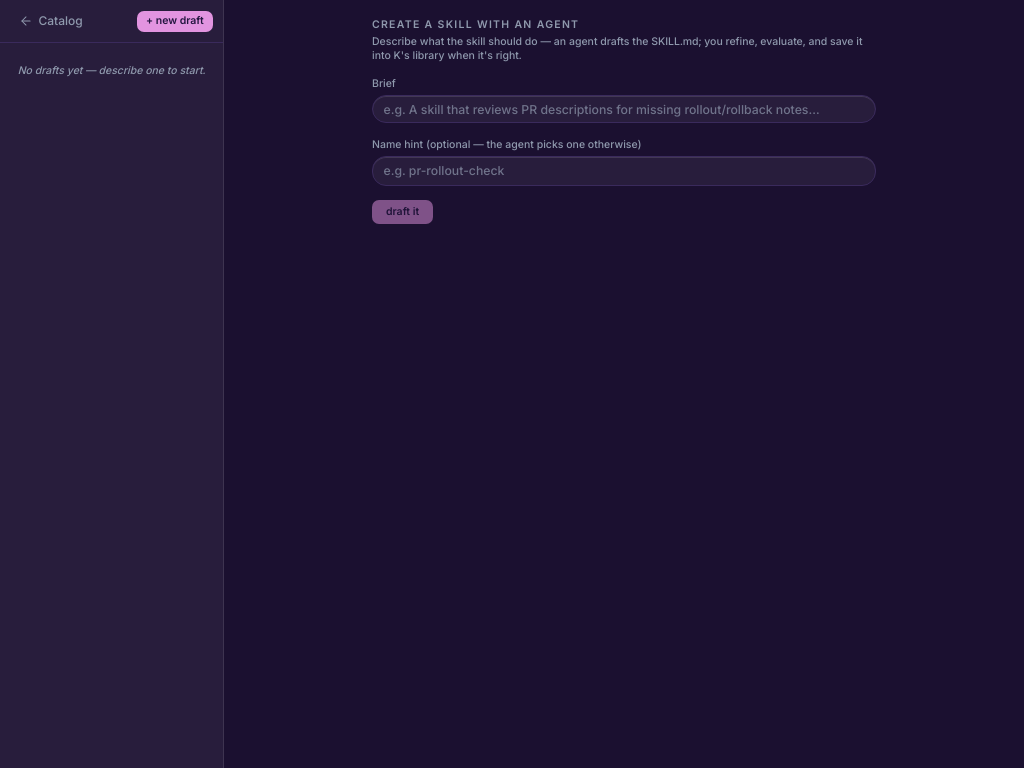
Test: BriefForm (no draft selected) › surfaces a create failure inline
This screenshot has width=1024, height=768.
Replace the text in the text box with test id "brief-input" with "x": x=624, y=108 [372,94,876,122]
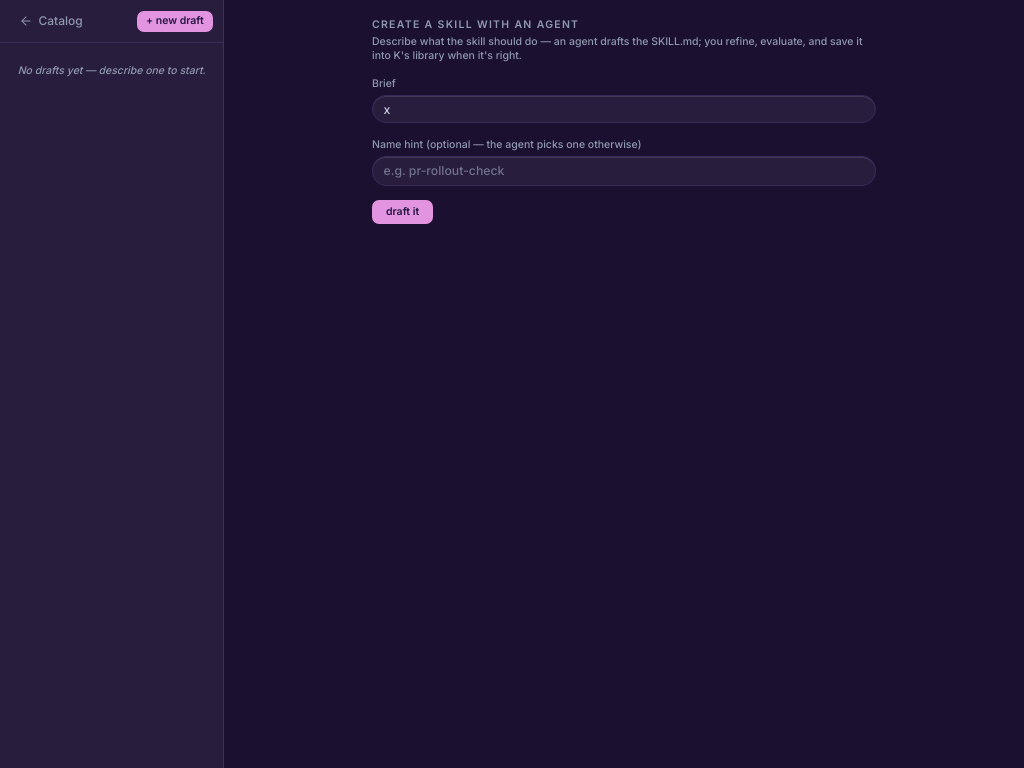
Click the button with test id "brief-submit": x=403, y=212 [372,200,433,224]
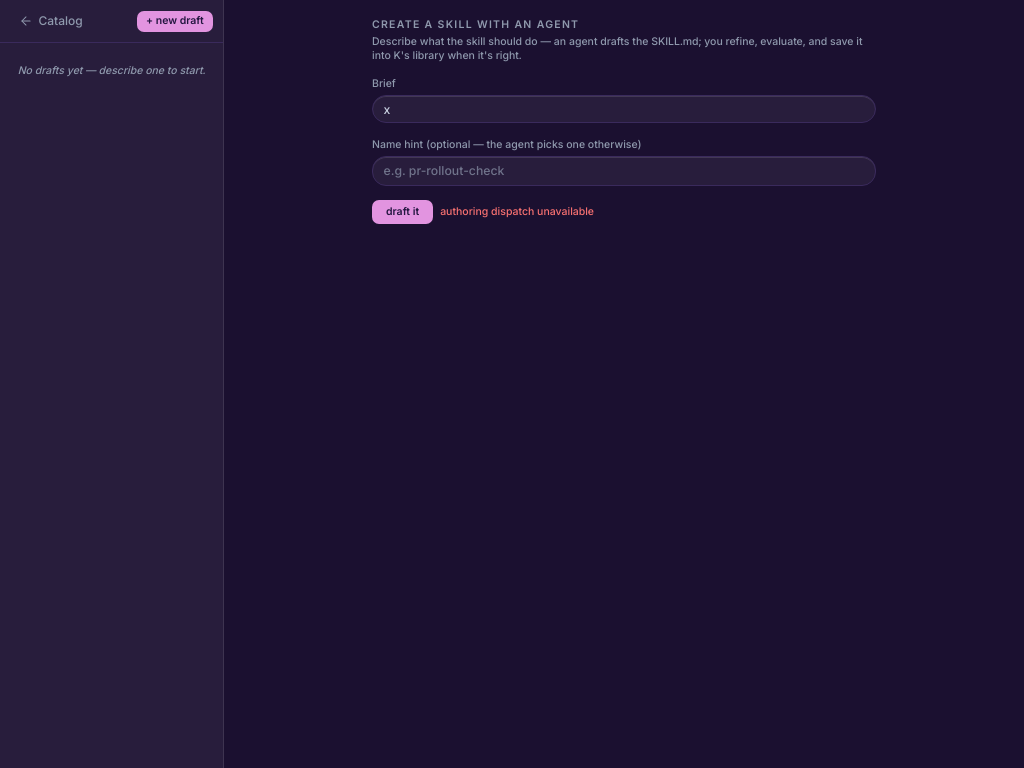
expect the text with test id "brief-error" reads "authoring dispatch unavailable": met, box [440,205,594,218]
